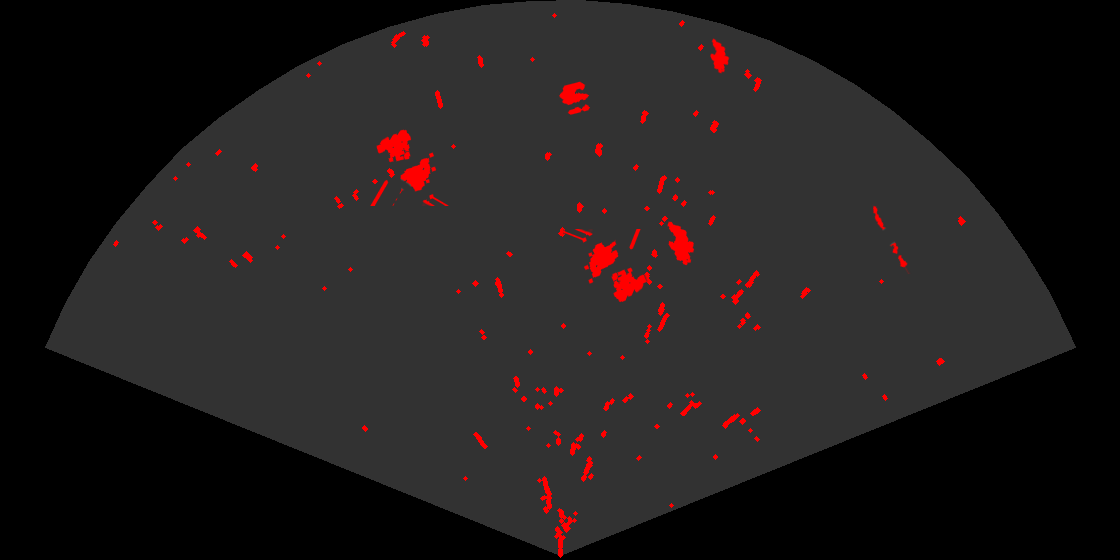AUV: (666, 220, 696, 267), (709, 37, 731, 75)
ball: (558, 80, 592, 116)
cage: (563, 229, 648, 304), (369, 128, 450, 206)
chain: (871, 203, 912, 274)
